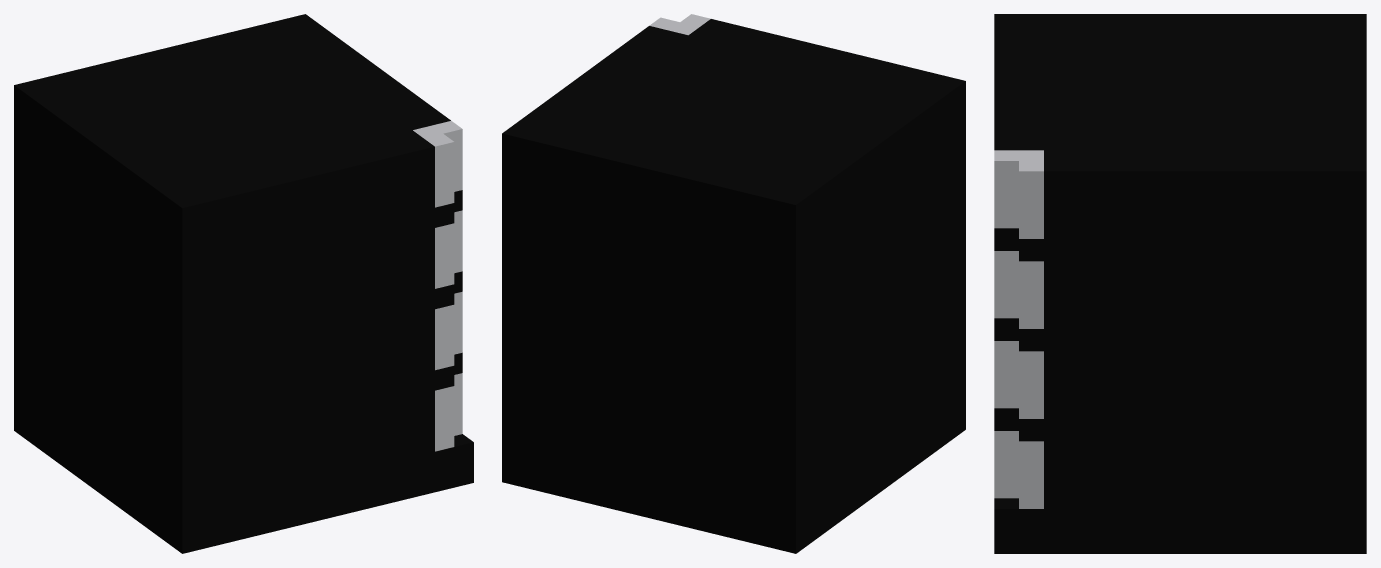
Rendered from dungeon_d_b_outer_wall_corner_d.obj.
3 renders of one model, left to right at view 1: azimuth 30°, elevation 25°; view 2: azimuth 150°, elevation 25°; view 3: azimuth 270°, elevation 25°, orthographic. The views are drawn at different scales.
Size of the model in its own units: 1.5 by 1.7 by 1.5.
Materials: 1 (1 with a texture image).
